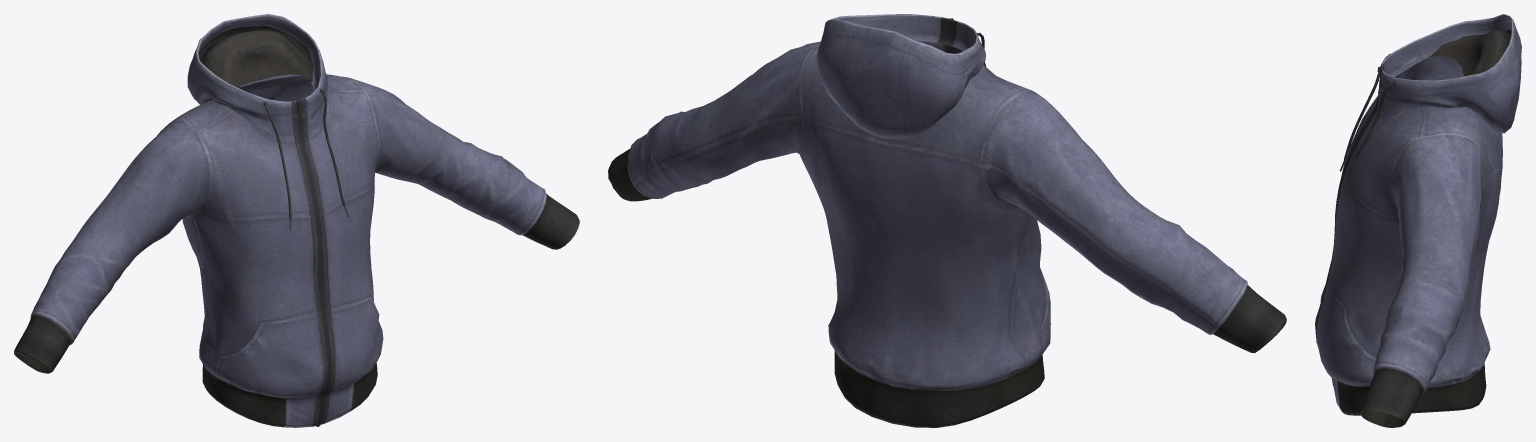
File: Hooded.glb
The picture shows the model from 3 angles, left to right: view 1: azimuth 30°, elevation 25°; view 2: azimuth 150°, elevation 25°; view 3: azimuth 270°, elevation 25°; orthographic projection. The views are drawn at different scales.
Parts seen in each view (by area): view 1: defaultMaterial; view 2: defaultMaterial; view 3: defaultMaterial.
Part boxes in pixels (x1,y1,x2,y2): defaultMaterial: (14, 14, 579, 427); defaultMaterial: (608, 14, 1286, 427); defaultMaterial: (1315, 14, 1521, 427).
Size of the model in its own units: 182039 by 108878 by 54428.
Materials: 1 (1 with a texture image).
